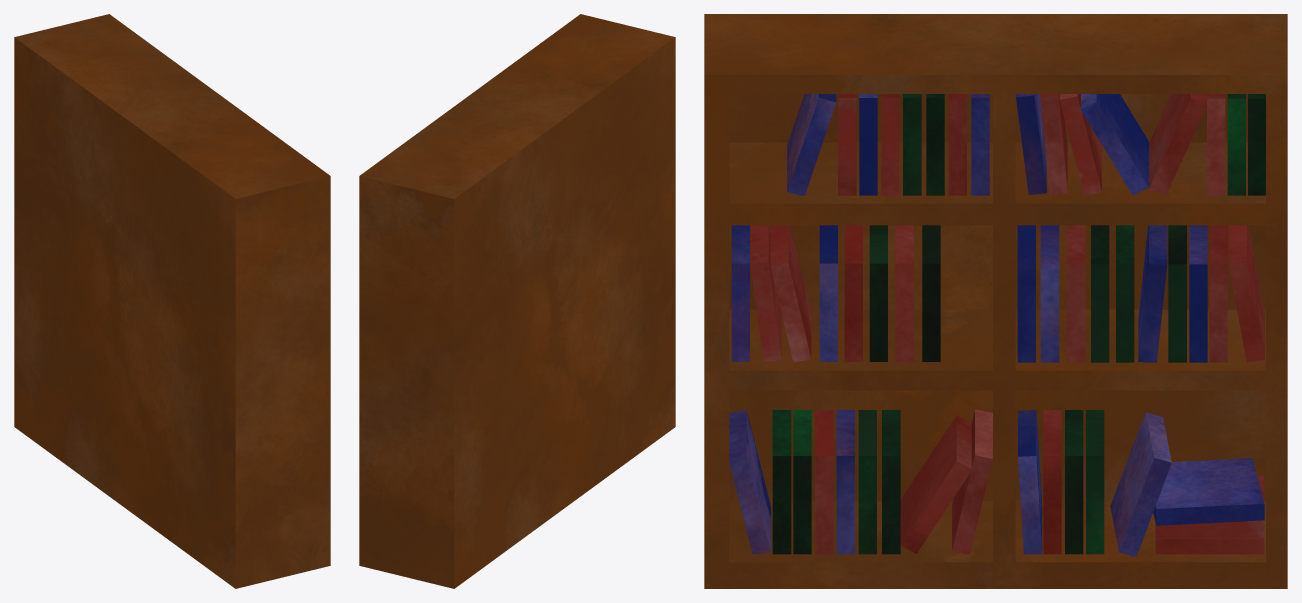
Rendered from Bookshelf.glb.
3 views of the same model, side by side, from view 1: azimuth 30°, elevation 25°; view 2: azimuth 150°, elevation 25°; view 3: azimuth 270°, elevation 25° (orthographic). The views are drawn at different scales.
Parts seen in each view (by area): view 1: Bookshelf; view 2: Bookshelf; view 3: Bookshelf, Books.Red, Books.Blue, Books.Green.
Part boxes in pixels (box(x1,y1,x2,y2)): Bookshelf: box(14, 14, 330, 588); Bookshelf: box(359, 14, 675, 588); Bookshelf: box(704, 14, 1287, 588); Books.Red: box(750, 94, 1264, 554); Books.Blue: box(729, 94, 1264, 556); Books.Green: box(772, 94, 1265, 554).
Size of the model in its own units: 1.96 by 7.68 by 7.89.
4 materials, 4 textured.
